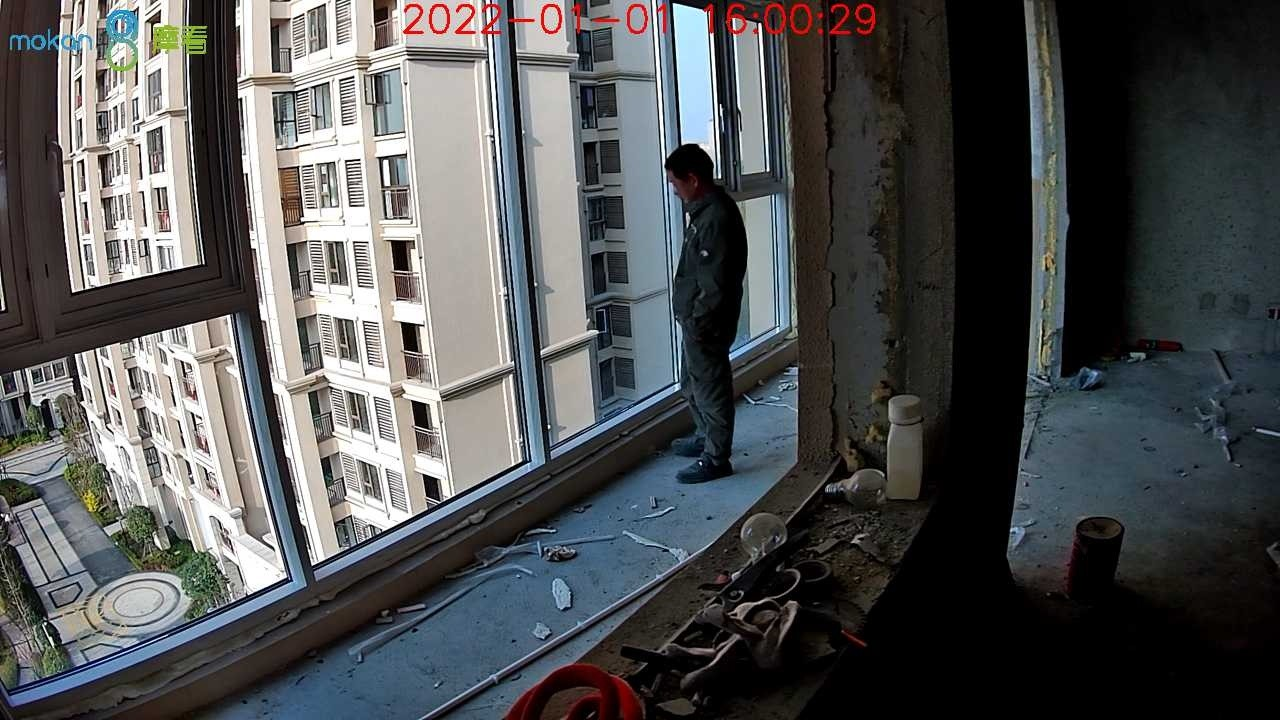people: (662, 143, 751, 484)
window: (4, 2, 795, 692)
